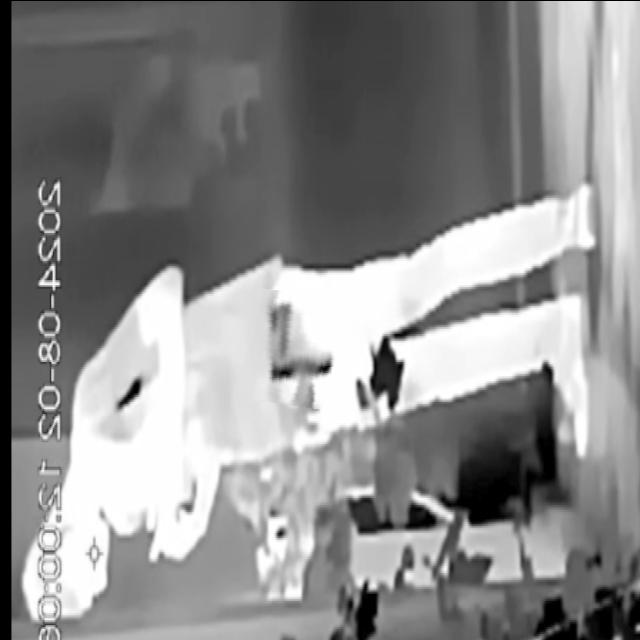Weapon: (245, 290, 352, 408)
